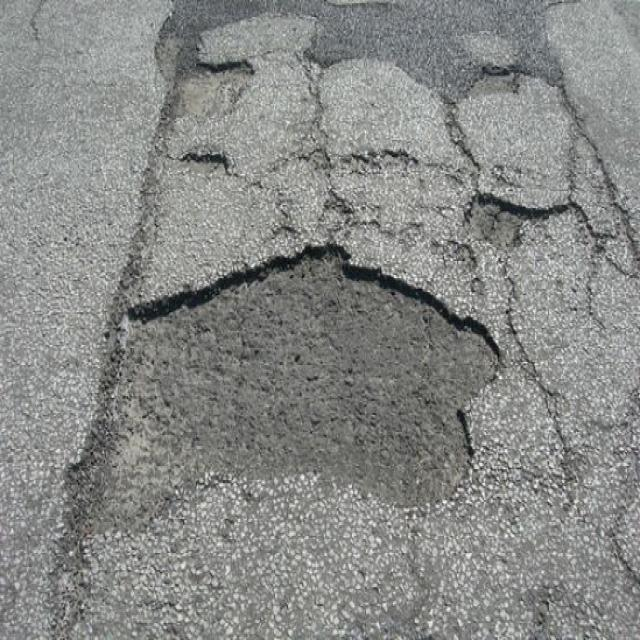pothole: (62, 239, 506, 533), (460, 183, 560, 240)
